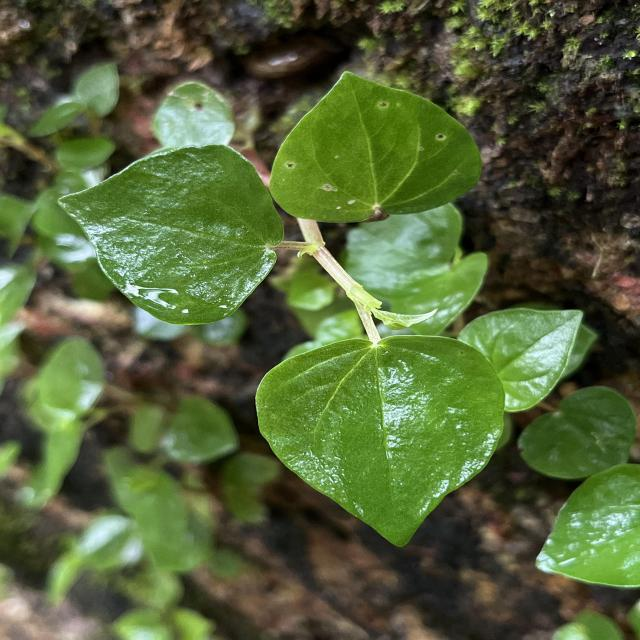Peperomia pellucida: (253, 332, 510, 550), (56, 142, 286, 327), (267, 69, 485, 225)
